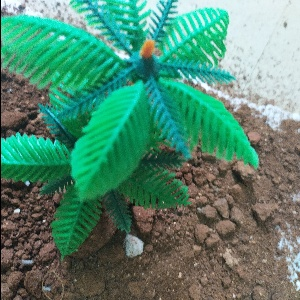plant: (5, 7, 253, 260)
